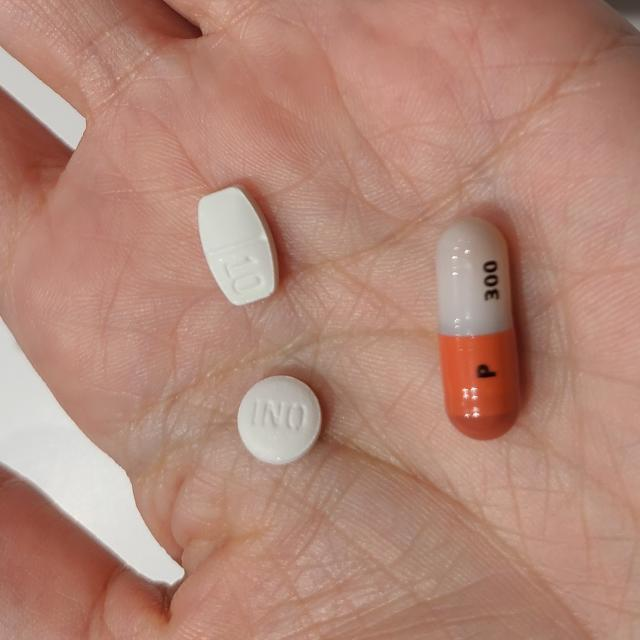pill: (428, 220, 524, 440), (195, 188, 279, 312), (236, 377, 321, 467)
